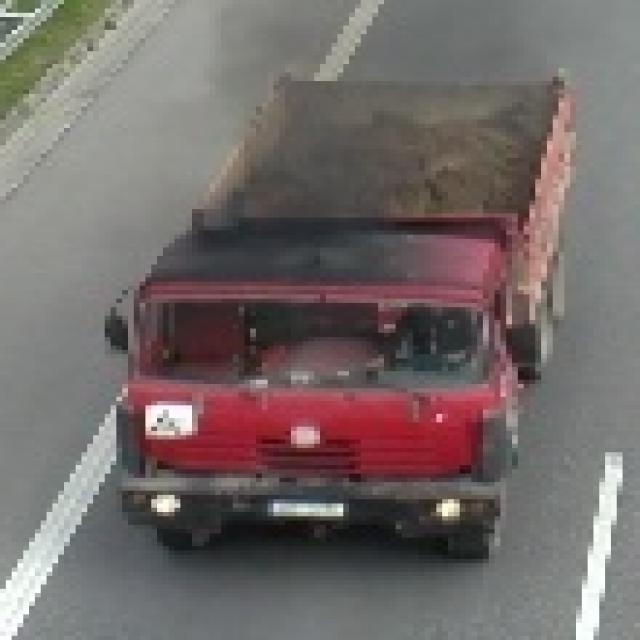truck: (75, 37, 604, 593)
